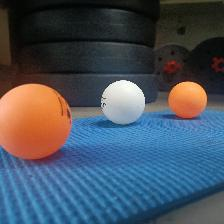WhiteBall: (100, 79, 144, 124)
YellowBall: (0, 82, 71, 160), (167, 81, 207, 118)
